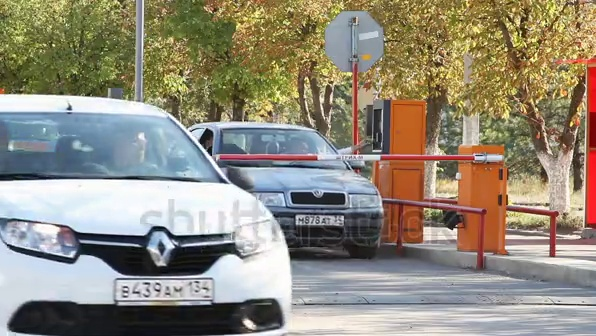licenseplate: (113, 277, 217, 302), (294, 213, 347, 231)
